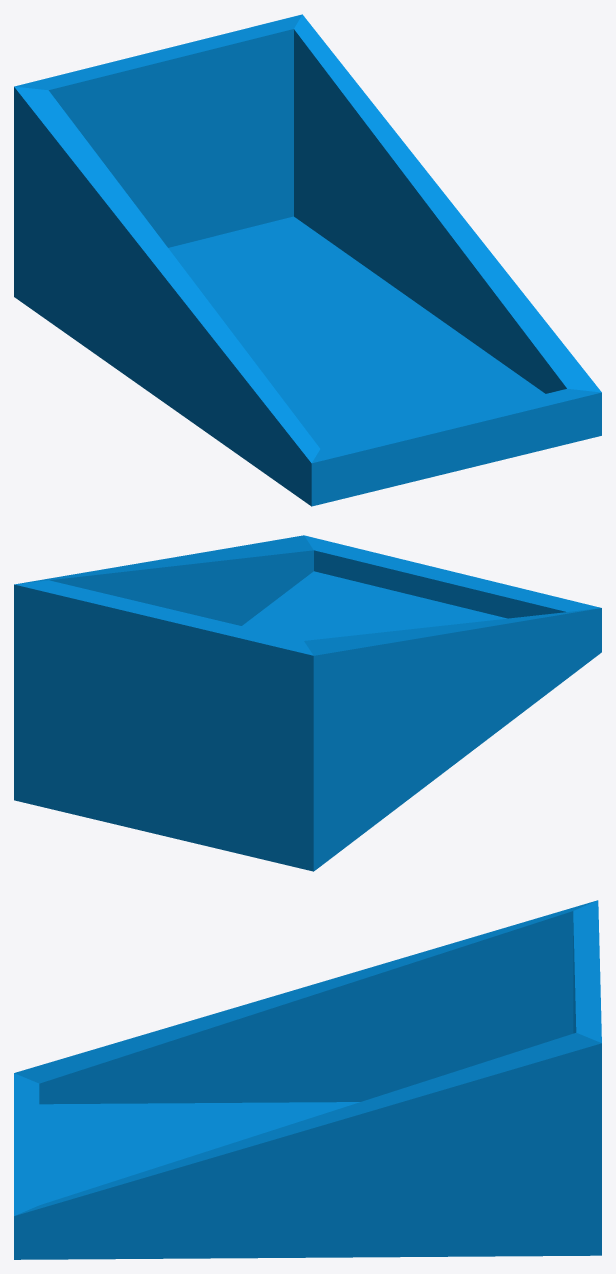
The model's file is Sellers Box 01.fbx.
3 views of the same model, one above another, from view 1: azimuth 30°, elevation 25°; view 2: azimuth 150°, elevation 25°; view 3: azimuth 270°, elevation 25° (orthographic). The views are drawn at different scales.
Parts seen in each view (by area): view 1: Sellers Box 01; view 2: Sellers Box 01; view 3: Sellers Box 01.
Part boxes in pixels (x1,y1,x2,y2): Sellers Box 01: (14,14,601,506); Sellers Box 01: (14,535,601,871); Sellers Box 01: (14,900,601,1259).
Bounding box in the file's own units: 82.28 × 55.36 × 139.
